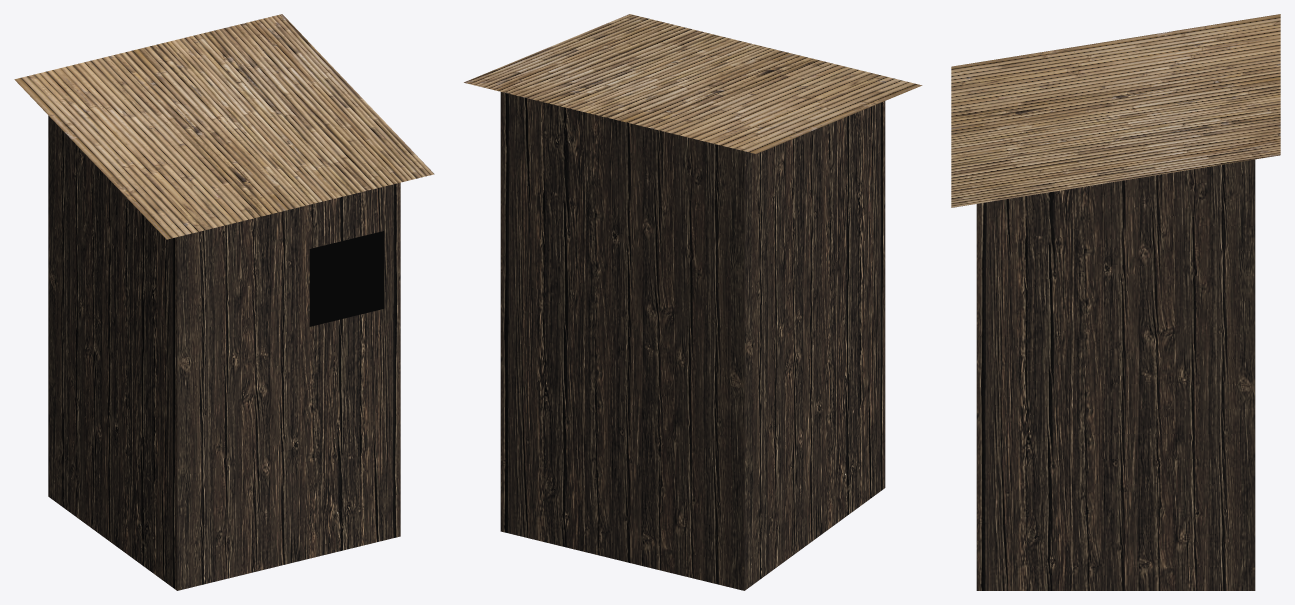
File: build2.FBX
3 renders of one model, left to right at view 1: azimuth 30°, elevation 25°; view 2: azimuth 150°, elevation 25°; view 3: azimuth 270°, elevation 25°, orthographic. The views are drawn at different scales.
Visible parts, largest first — view 1: build2; view 2: build2; view 3: build2.
Part boxes in pixels (<box>): build2: <box>14,14,434,590</box>; build2: <box>464,14,922,590</box>; build2: <box>951,14,1280,590</box>.
Bounding box in the file's own units: 72 × 106 × 70.91.
